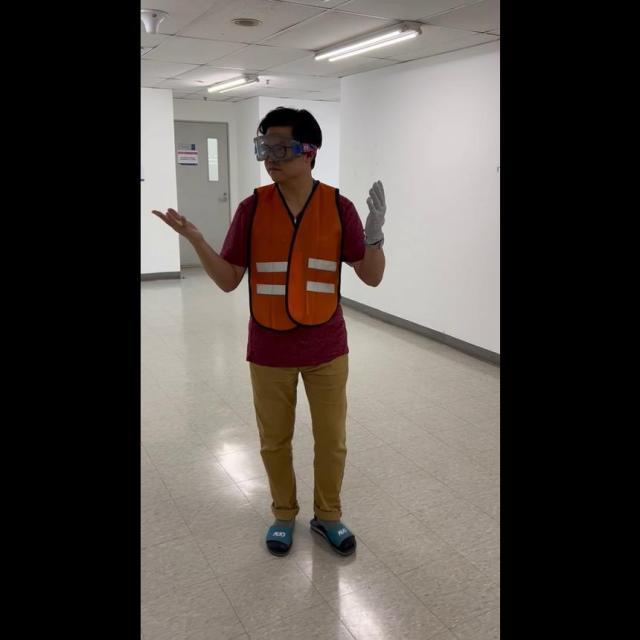bare_hand: (149, 202, 199, 240)
gloved_hand: (359, 176, 387, 247)
